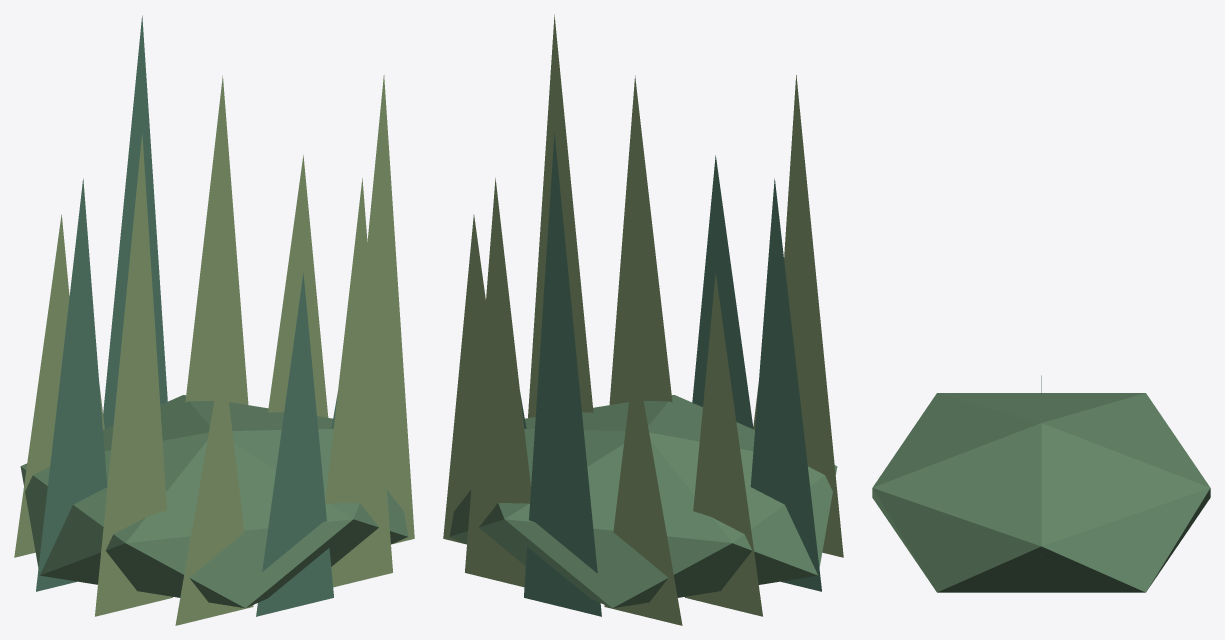
The model's file is SM_Grass_Clump_01.fbx.
3 renders of one model, left to right at view 1: azimuth 30°, elevation 25°; view 2: azimuth 150°, elevation 25°; view 3: azimuth 270°, elevation 25°, orthographic.
Parts seen in each view (by area): view 1: SM_Grass_Clump_01; view 2: SM_Grass_Clump_01; view 3: SM_Grass_Clump_01.
Part boxes in pixels (left/top/right/bottom): SM_Grass_Clump_01: left=14, top=15, right=414, bottom=625; SM_Grass_Clump_01: left=443, top=14, right=843, bottom=625; SM_Grass_Clump_01: left=872, top=375, right=1210, bottom=592.
Size of the model in its own units: 0.64 by 0.85 by 0.5274.
